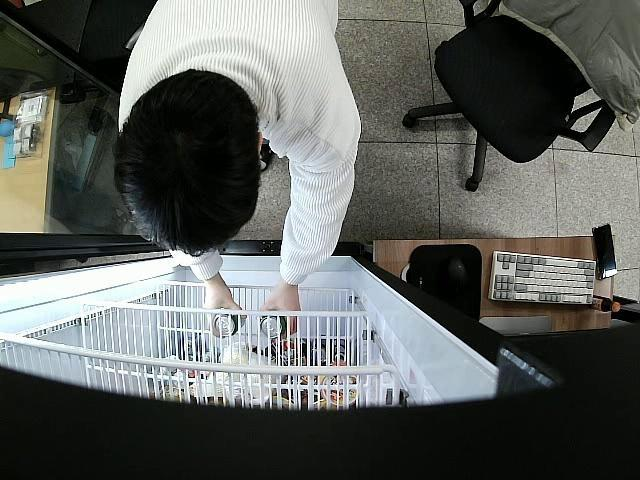12_chilsungCider: (214, 314, 244, 337), (260, 314, 287, 338)
